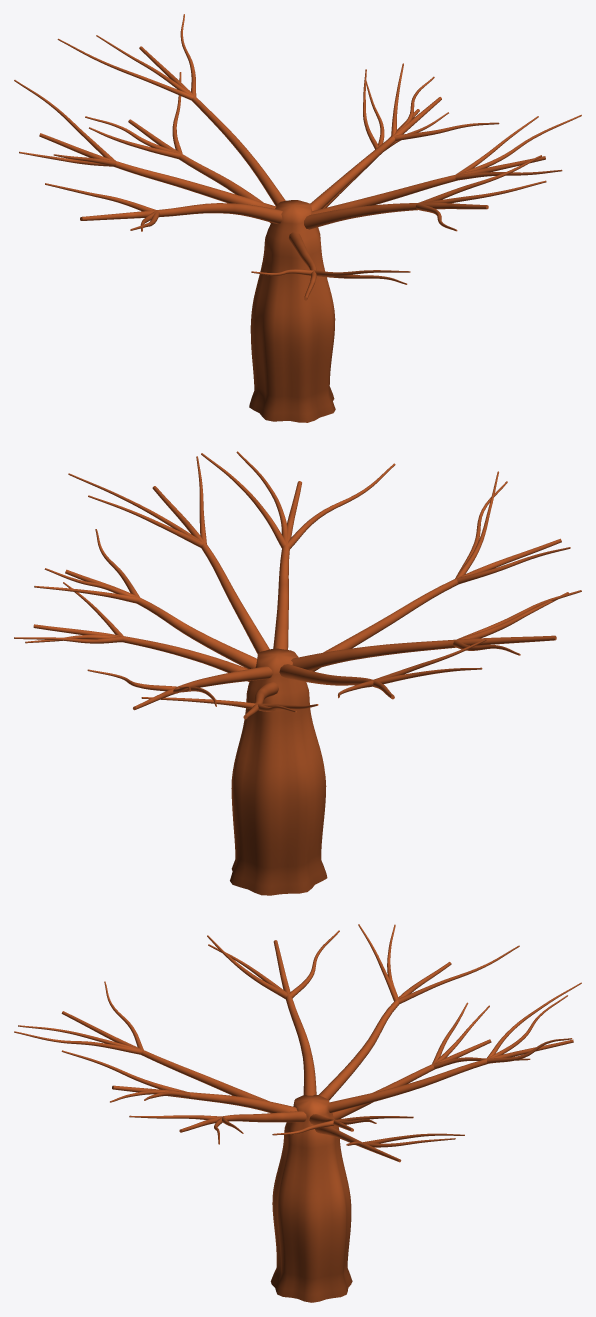
The model's file is baobab_bare.glb.
3 renders of one model, top to bottom at view 1: azimuth 30°, elevation 25°; view 2: azimuth 150°, elevation 25°; view 3: azimuth 270°, elevation 25°, orthographic. The views are drawn at different scales.
Visible parts, largest first — view 1: baobab_bare_bark; view 2: baobab_bare_bark; view 3: baobab_bare_bark.
Boxes of the visible parts, x1=… form: baobab_bare_bark: x1=14, y1=14, x2=581, y2=422; baobab_bare_bark: x1=14, y1=451, x2=581, y2=895; baobab_bare_bark: x1=14, y1=924, x2=581, y2=1302.
Size of the model in its own units: 29.62 by 17.03 by 33.22.
